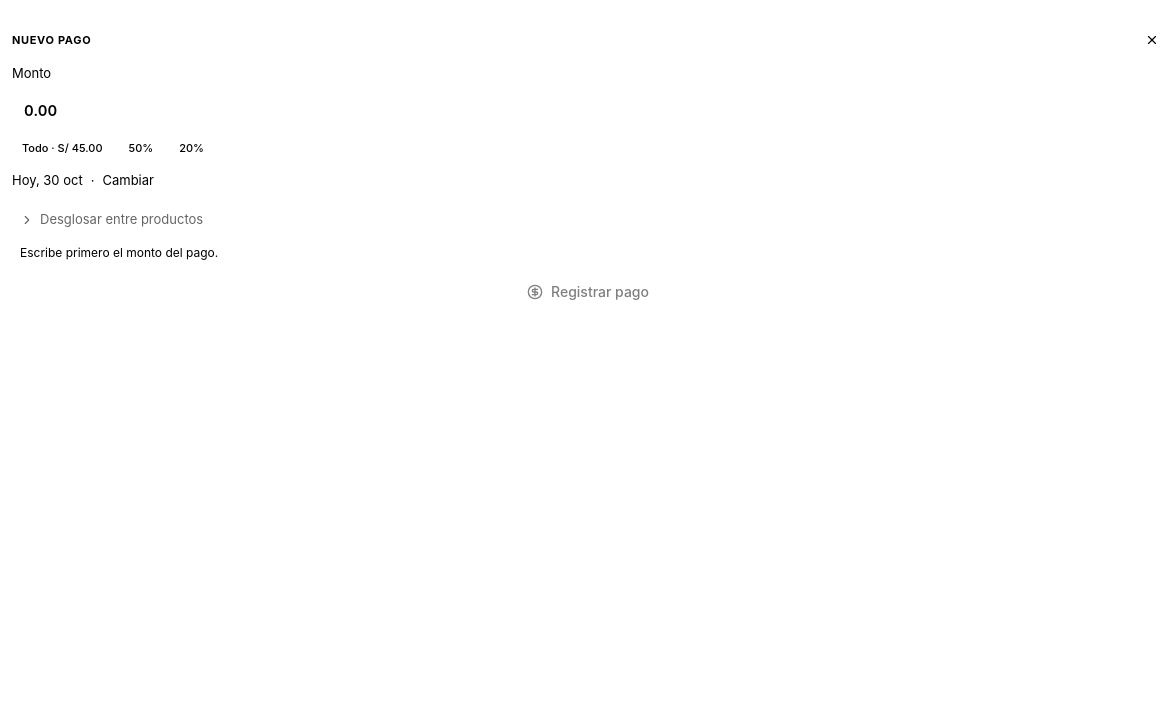
Test: order payment breakdown · what the fill button promises (I-1) › writes exactly the amount its accessible name promises, at every moment of the draft
Type "45.00" into the field labelled "Monto" at (588, 111), box [12, 90, 1164, 132]
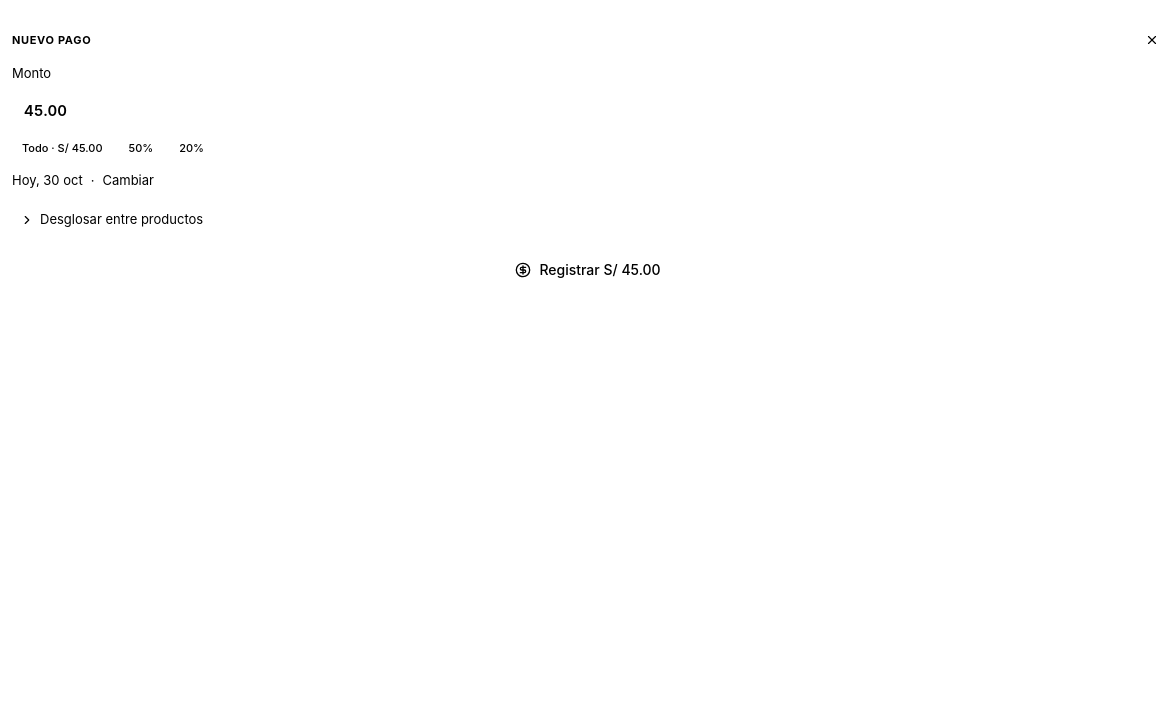
Click the button "Desglosar entre productos" at (122, 219), box [12, 200, 1164, 240]
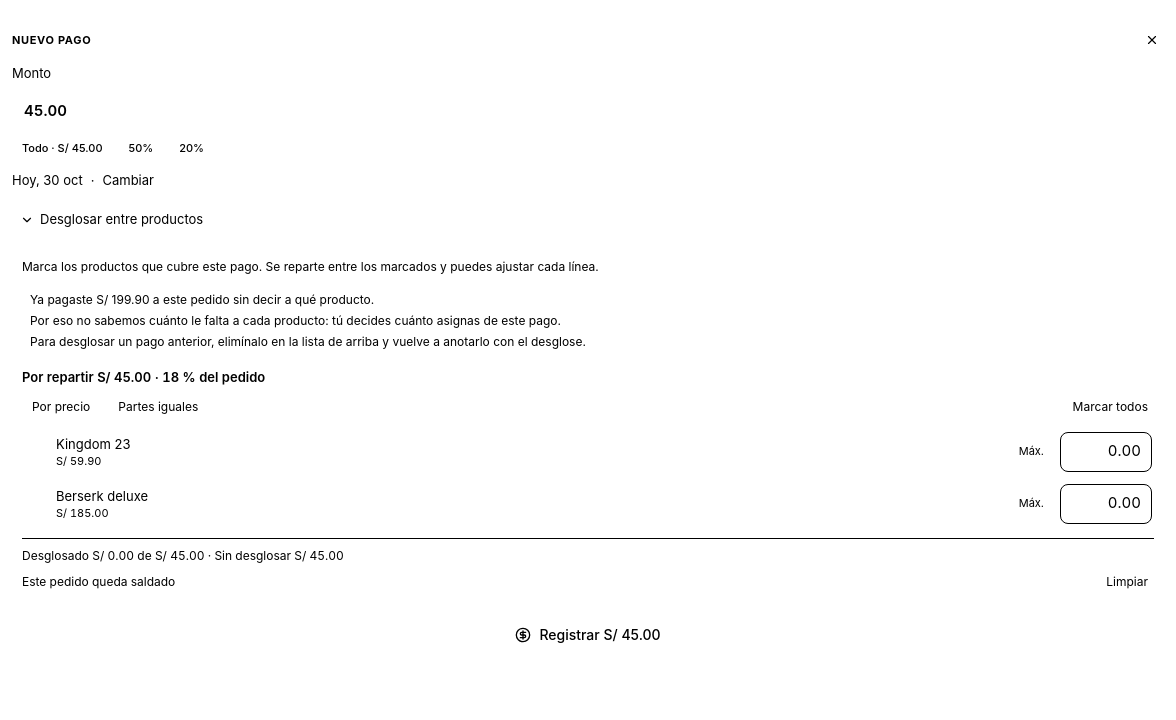
Type "10.00" into the field with placeholder "0.00" in the row of "Kingdom 23" at (1106, 452), box [1071, 440, 1141, 463]
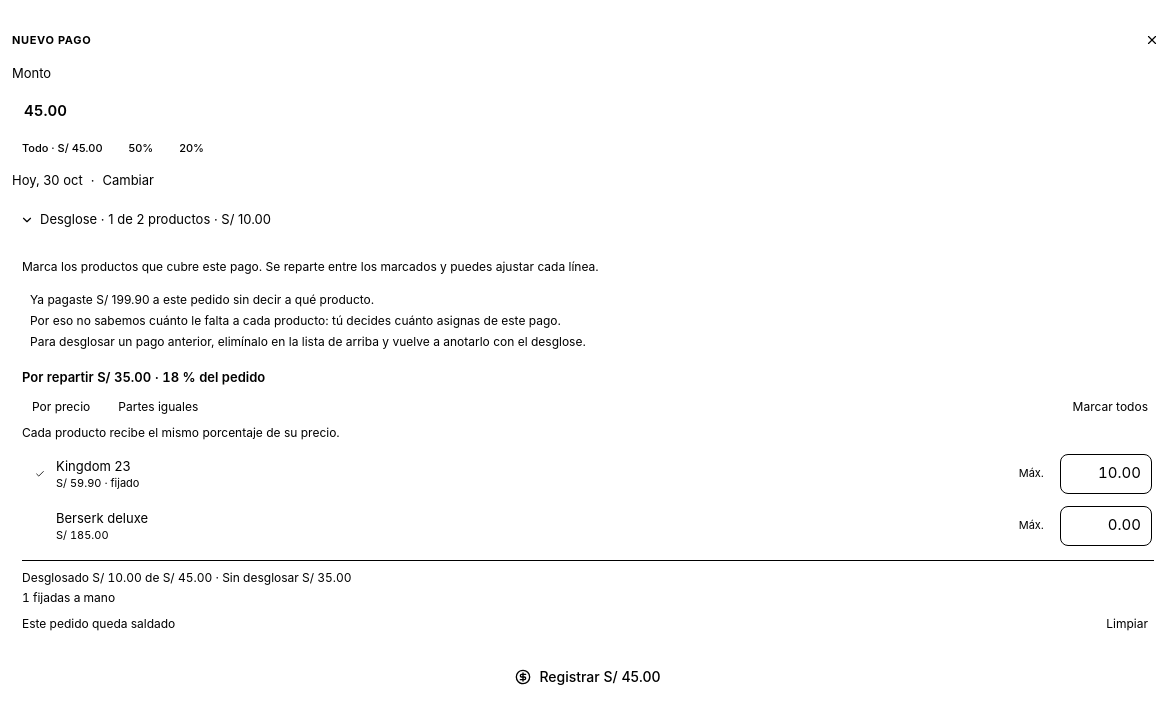
Click the button with aria-label "Asignar " at (1031, 526), box [1011, 513, 1052, 538]
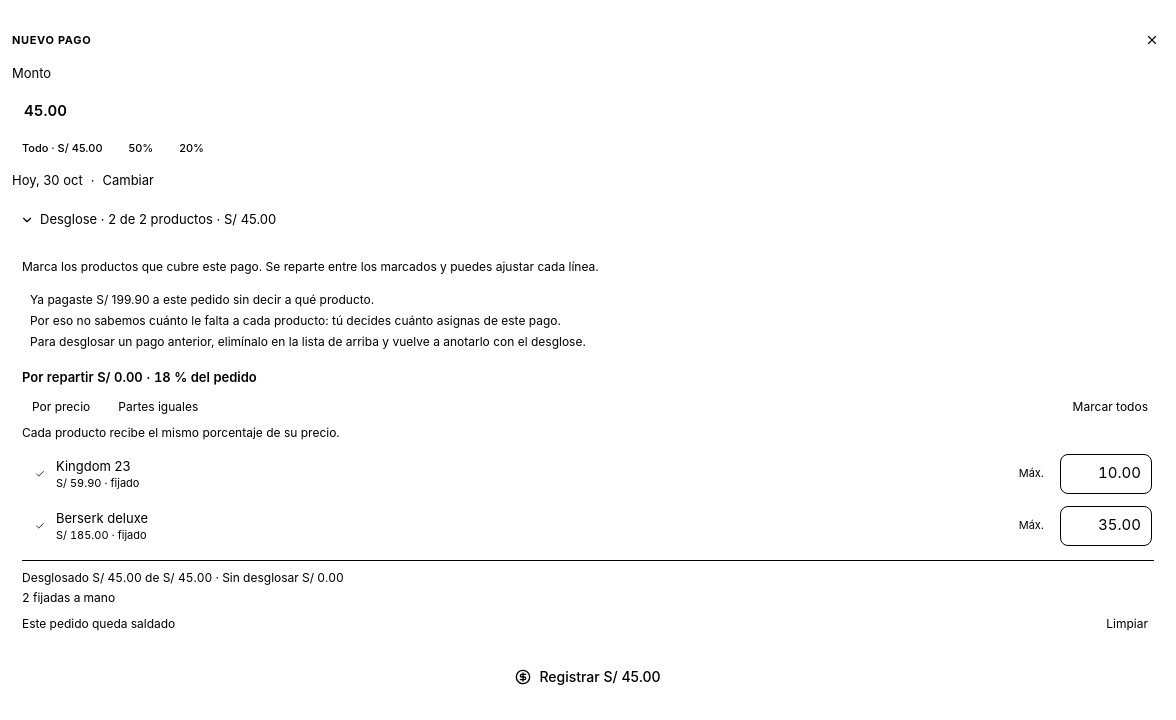
Check: the field named "Monto para Berserk deluxe" holds "35.00", box [1071, 514, 1141, 537]
